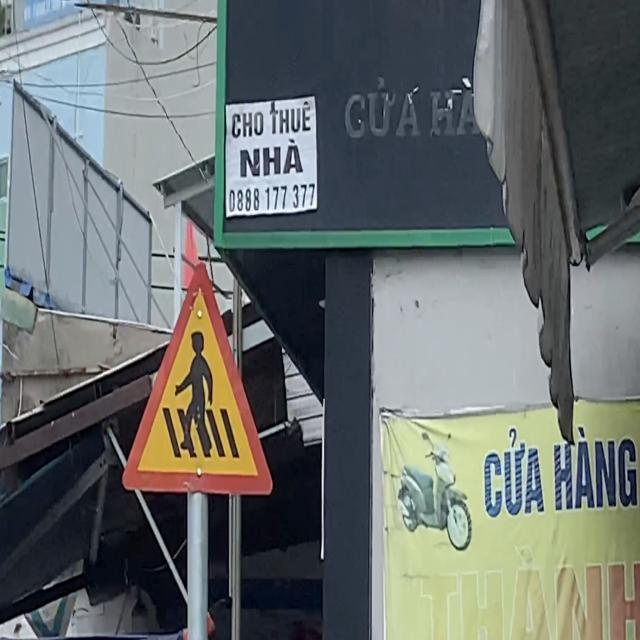Nguoi di bo cat ngang: (114, 243, 280, 509)
